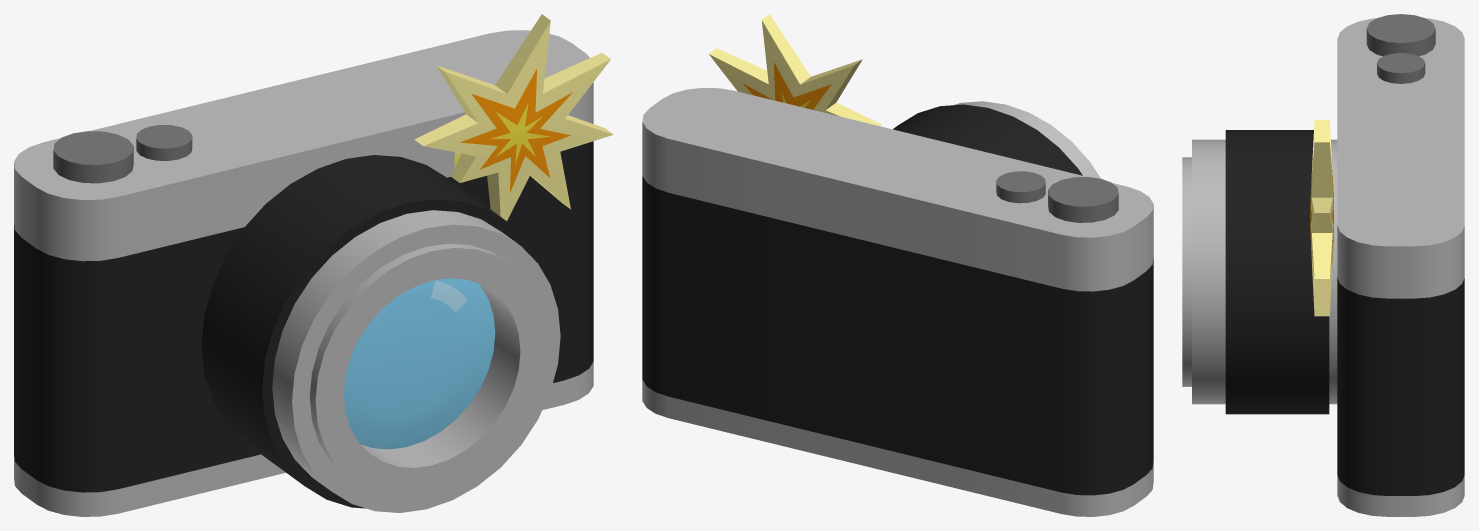
File: camera_with_flash.glb
3 views of the same model, side by side, from view 1: azimuth 30°, elevation 25°; view 2: azimuth 150°, elevation 25°; view 3: azimuth 270°, elevation 25° (orthographic). The views are drawn at different scales.
Visible parts, largest first — view 1: Cube.941, Plane.322; view 2: Cube.941, Plane.322; view 3: Cube.941, Plane.322.
Boxes of the visible parts, x1=… form: Cube.941: x1=14, y1=30, x2=593, y2=516; Plane.322: x1=414, y1=14, x2=613, y2=220; Cube.941: x1=642, y1=88, x2=1153, y2=516; Plane.322: x1=709, y1=14, x2=881, y2=125; Cube.941: x1=1182, y1=14, x2=1464, y2=516; Plane.322: x1=1310, y1=120, x2=1333, y2=316.
Bounding box in the file's own units: 2.16 × 1.5 × 1.13.
Materials: 1 (1 with a texture image).
